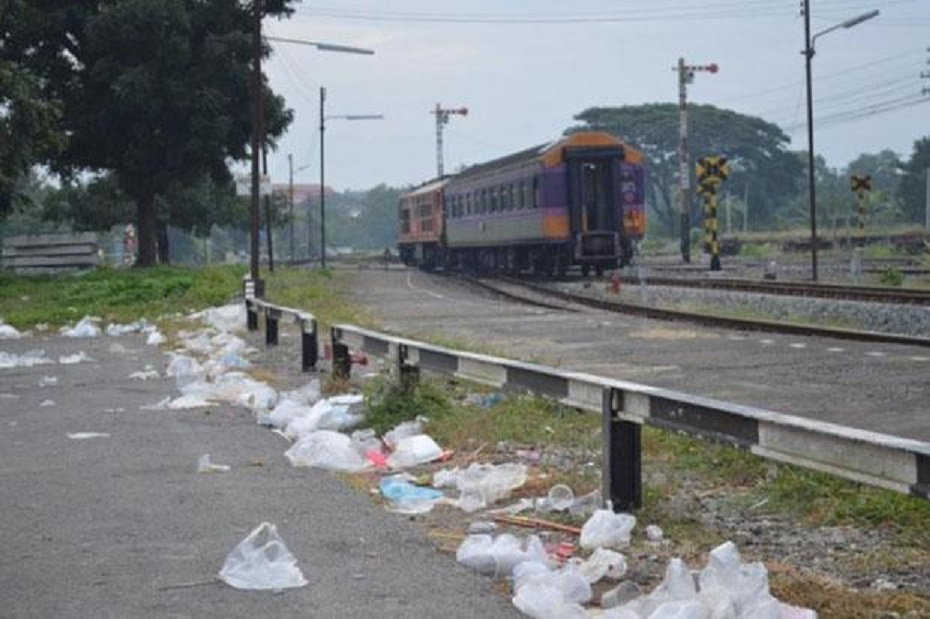plastic_bagwdw: (177, 509, 331, 618)
